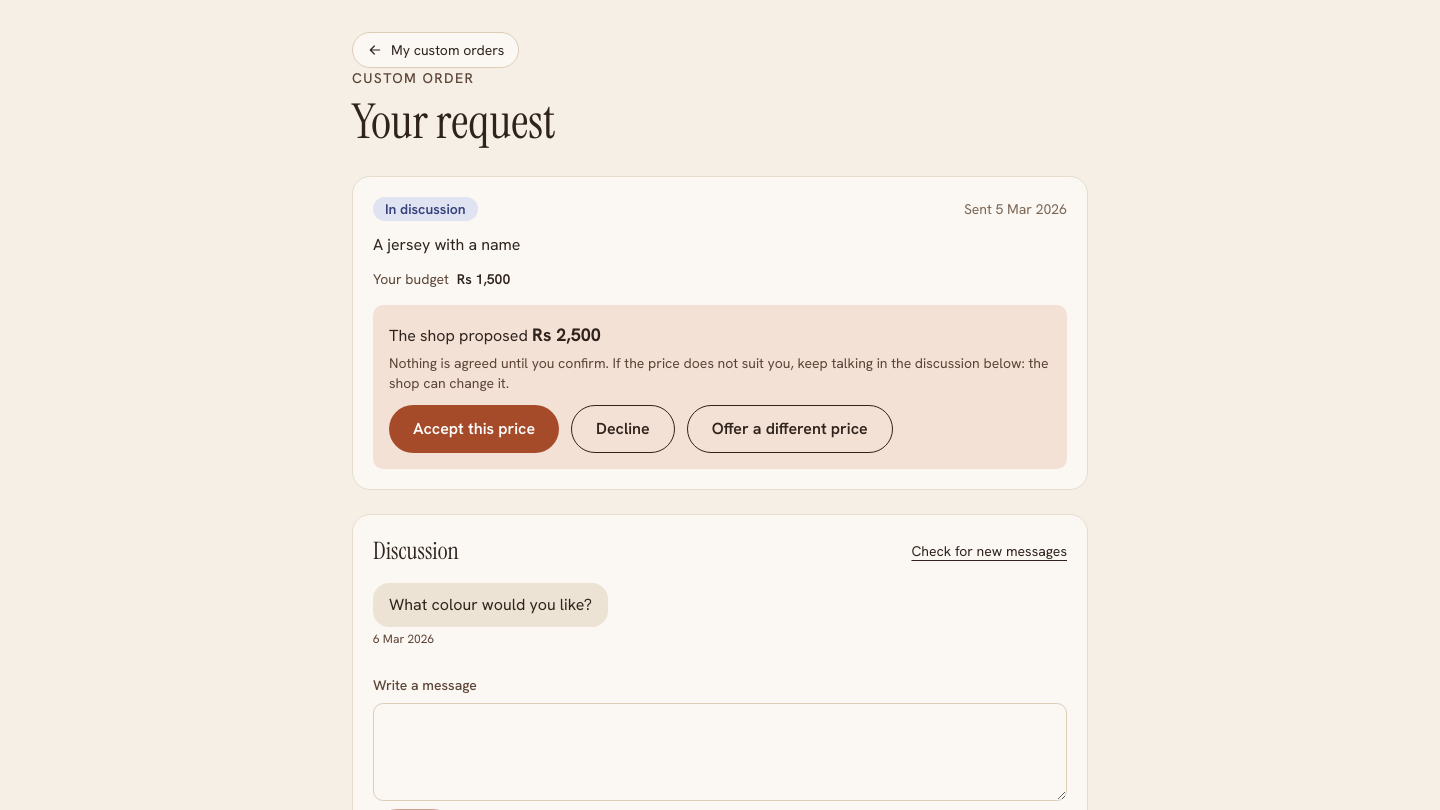
Test: asks the customer to confirm a proposed price, and accepts only after the pop-up is confirmed
Expected: the text "Rs 2,500" is shown, [532, 323, 601, 346]
Expected: the text "Nothing is agreed until you confirm" is shown, [389, 354, 1048, 392]
Click the button "Accept this price". click: point(474, 429)
box: [389, 405, 559, 453]
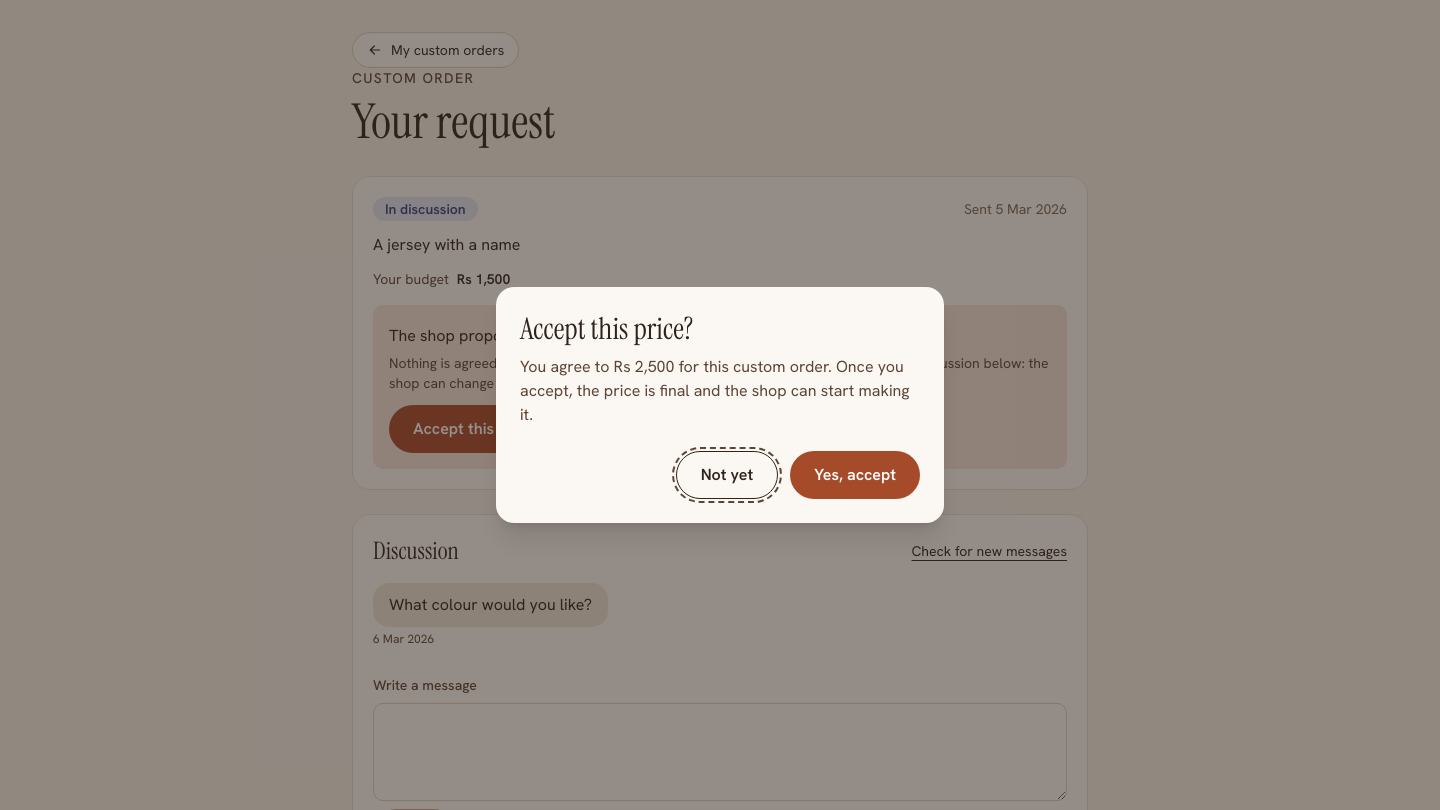
Result: the dialog "Accept this price?" shows "Rs 2,500" at [614, 356, 674, 377]
Click the button "Yes, accept". click: point(855, 475)
box: [790, 451, 920, 499]
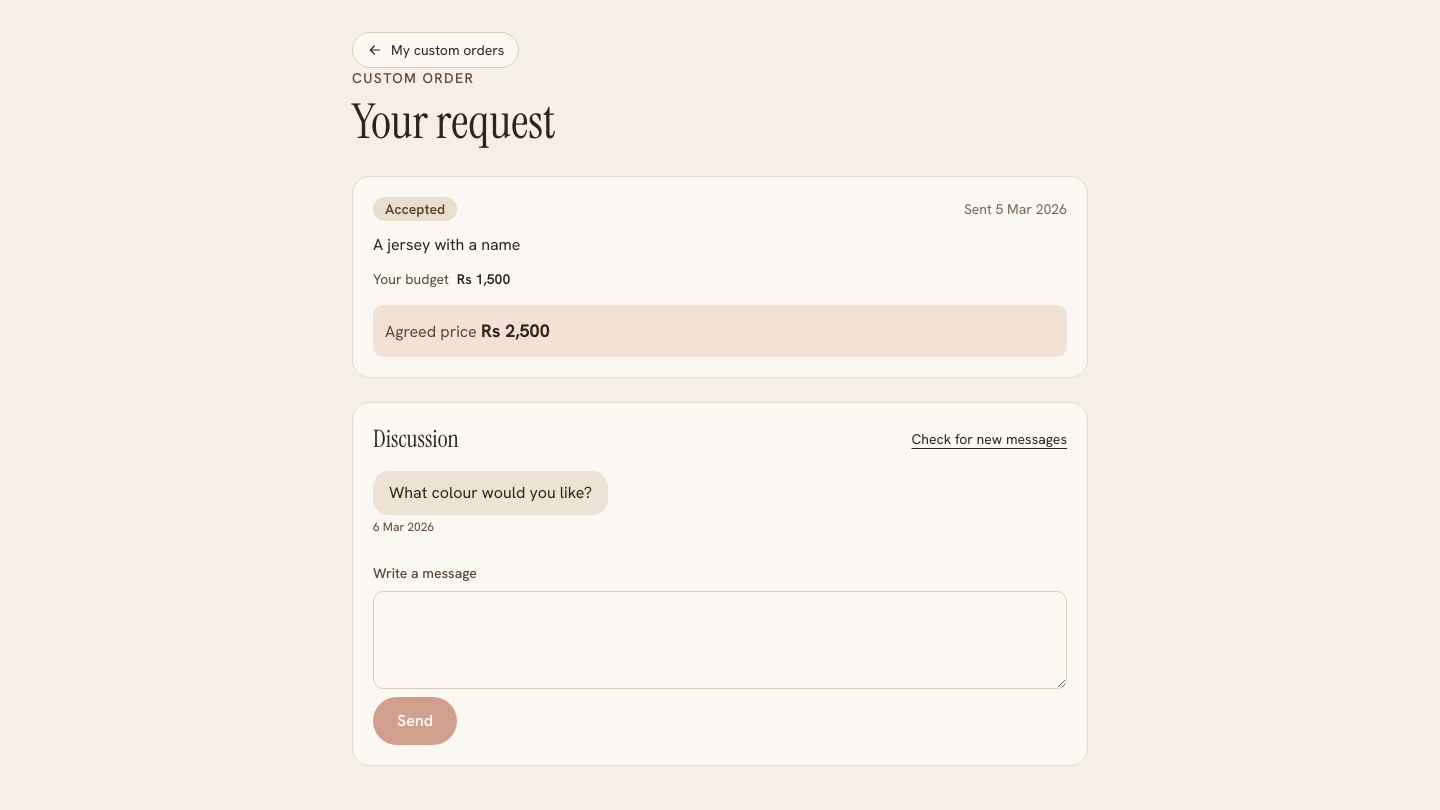
Result: the text "Agreed price" is shown at [385, 321, 477, 342]
Result: the button "Accept this price" is gone
